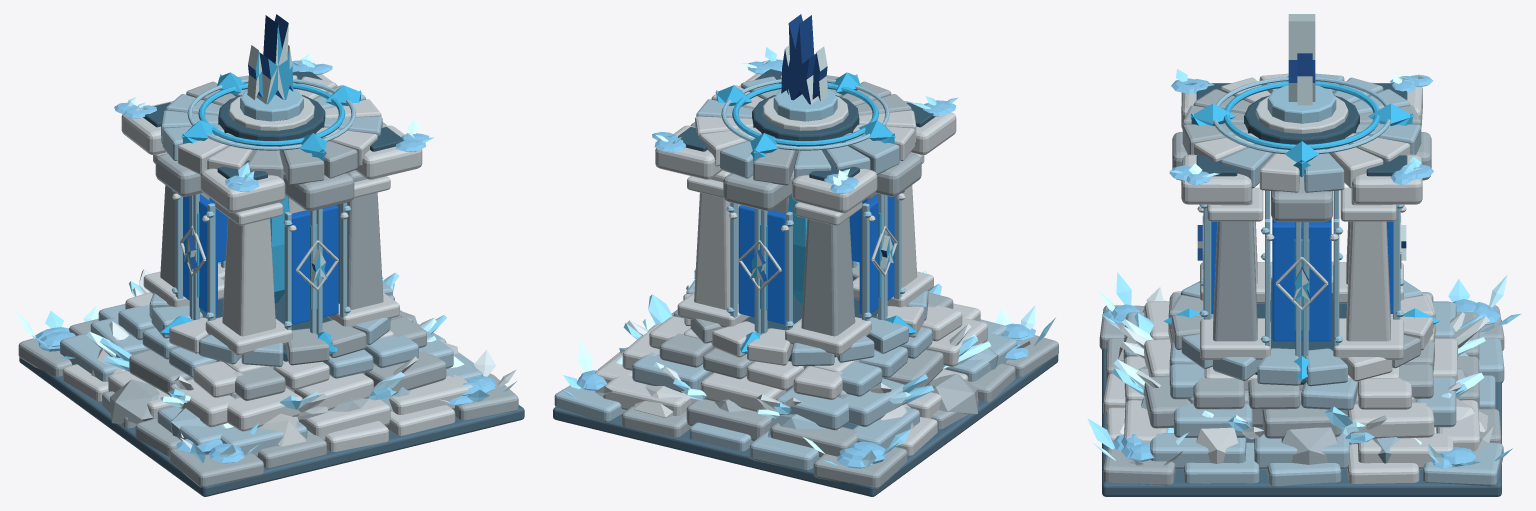
Rendered from ice.fbx.
3 renders of one model, left to right at view 1: azimuth 30°, elevation 25°; view 2: azimuth 150°, elevation 25°; view 3: azimuth 270°, elevation 25°, orthographic. The views are drawn at different scales.
Visible parts, largest first — view 1: Tower_Premium_Ice_Stonework, Tower_Premium_Ice_Trim, Tower_Premium_Ice_Growth, Tower_Premium_Ice_Core, Tower_Premium_Ice_Foundation_Rocks, Tower_Premium_Ice_Outer_Foliage, Tower_Premium_Ice_Elemental_Gems; view 2: Tower_Premium_Ice_Stonework, Tower_Premium_Ice_Trim, Tower_Premium_Ice_Growth, Tower_Premium_Ice_Core, Tower_Premium_Ice_Foundation_Rocks, Tower_Premium_Ice_Elemental_Gems, Tower_Premium_Ice_Outer_Foliage; view 3: Tower_Premium_Ice_Stonework, Tower_Premium_Ice_Trim, Tower_Premium_Ice_Growth, Tower_Premium_Ice_Core, Tower_Premium_Ice_Outer_Foliage, Tower_Premium_Ice_Foundation_Rocks, Tower_Premium_Ice_Elemental_Gems.
Boxes of the visible parts, <box> form: Tower_Premium_Ice_Stonework: <box>18,74,518,487</box>; Tower_Premium_Ice_Trim: <box>143,71,403,361</box>; Tower_Premium_Ice_Growth: <box>15,53,524,496</box>; Tower_Premium_Ice_Core: <box>160,72,383,354</box>; Tower_Premium_Ice_Foundation_Rocks: <box>91,310,458,446</box>; Tower_Premium_Ice_Outer_Foliage: <box>86,269,446,419</box>; Tower_Premium_Ice_Elemental_Gems: <box>184,14,326,282</box>; Tower_Premium_Ice_Stonework: <box>554,74,1058,489</box>; Tower_Premium_Ice_Trim: <box>678,69,948,361</box>; Tower_Premium_Ice_Growth: <box>553,47,1058,496</box>; Tower_Premium_Ice_Core: <box>694,72,916,353</box>; Tower_Premium_Ice_Foundation_Rocks: <box>619,315,998,437</box>; Tower_Premium_Ice_Elemental_Gems: <box>750,14,893,282</box>; Tower_Premium_Ice_Outer_Foliage: <box>623,270,990,418</box>; Tower_Premium_Ice_Stonework: <box>1099,73,1504,486</box>; Tower_Premium_Ice_Trim: <box>1196,77,1414,384</box>; Tower_Premium_Ice_Growth: <box>1087,69,1521,496</box>; Tower_Premium_Ice_Core: <box>1163,76,1440,381</box>; Tower_Premium_Ice_Outer_Foliage: <box>1112,312,1489,443</box>; Tower_Premium_Ice_Foundation_Rocks: <box>1118,336,1487,464</box>; Tower_Premium_Ice_Elemental_Gems: <box>1197,14,1406,300</box>.
Size of the model in its own units: 405 by 431 by 425.
